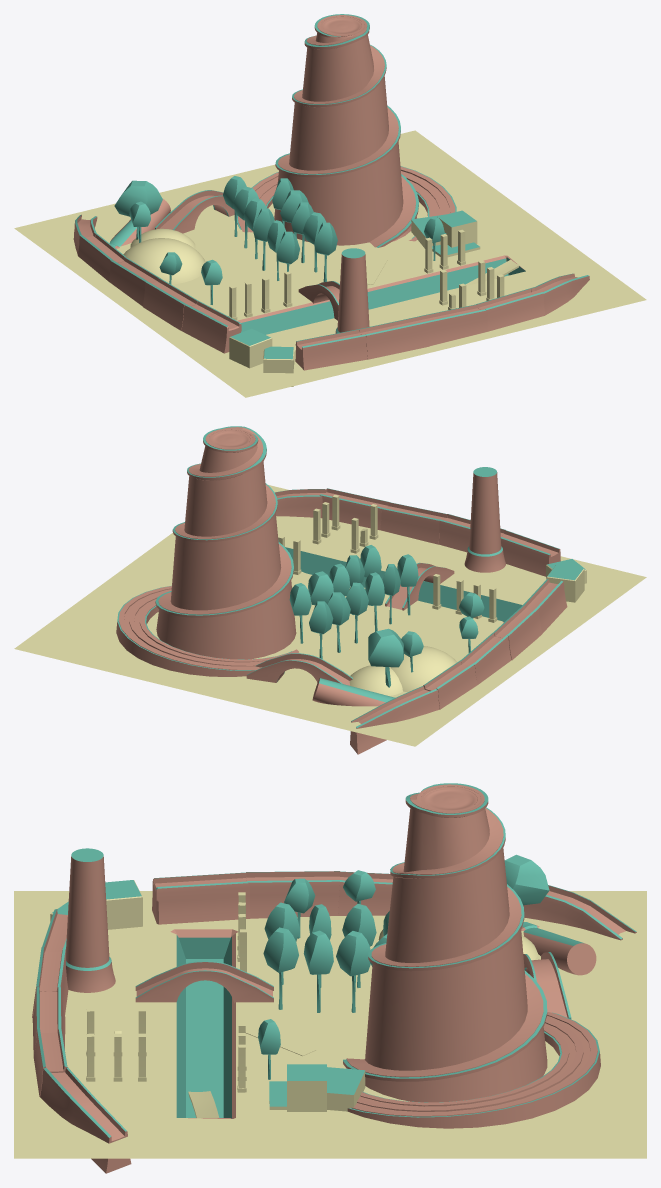
The model's file is Level.fbx.
3 views of the same model, one above another, from view 1: azimuth 30°, elevation 25°; view 2: azimuth 150°, elevation 25°; view 3: azimuth 270°, elevation 25° (orthographic). The views are drawn at different scales.
Parts seen in each view (by area): view 1: Level; view 2: Level; view 3: Level.
Boxes of the visible parts, x1,y1,x2,y2 form: Level: (14,14,646,397); Level: (14,426,646,754); Level: (14,783,646,1173).
Bounding box in the file's own units: 65.22 × 35.58 × 65.22.
